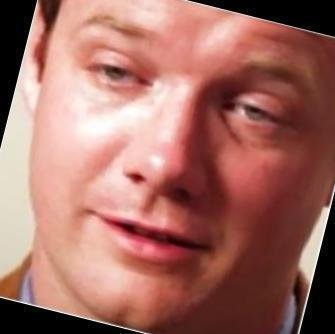Drunk: (55, 4, 300, 323)
